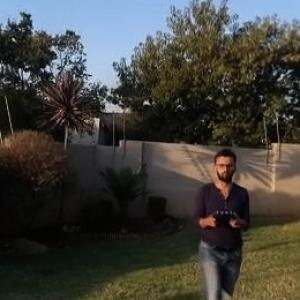follow: (189, 142, 253, 299)
